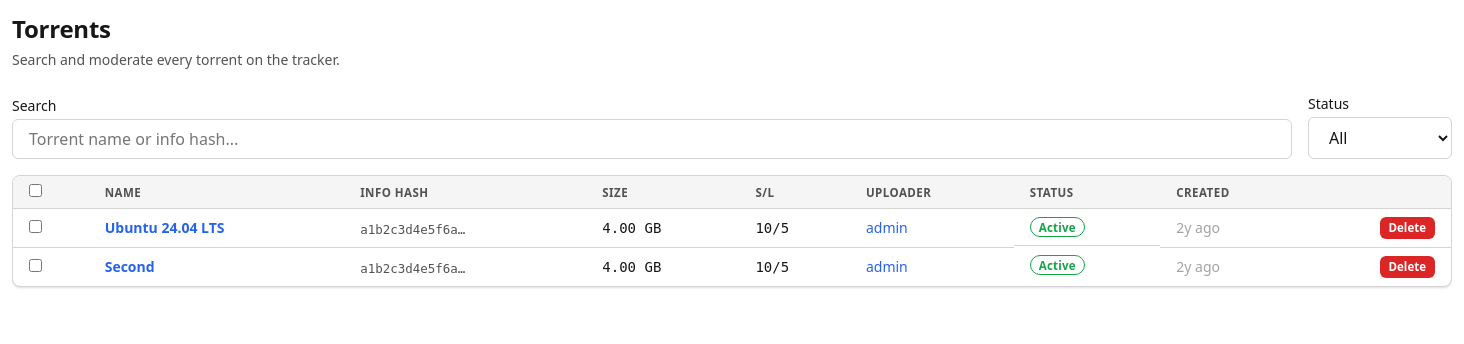
Scenario: AdminTorrentsPage › the bulk bar appears only once rows are selected
Expected: the link "Ubuntu 24.04 LTS" is shown, top-left (105, 218), bottom-right (225, 237)
Expected: the text "selected" is not shown
Step 1. Click the checkbox named "Select Ubuntu 24.04 LTS" → (36, 227), box top-left (29, 220), bottom-right (42, 233)
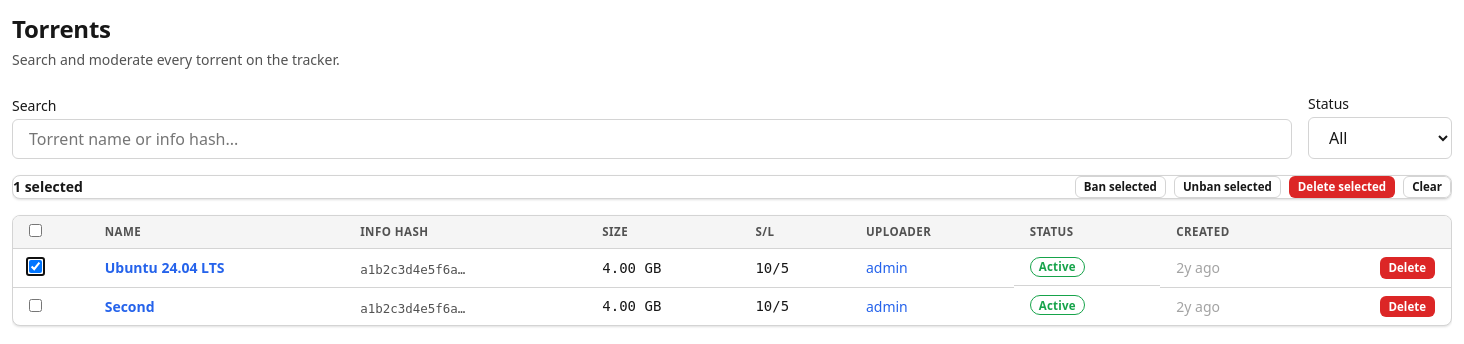
Expected: the text "1 selected" is shown, top-left (13, 177), bottom-right (83, 196)
Expected: the button "Ban selected" is shown, top-left (1075, 176), bottom-right (1166, 198)
